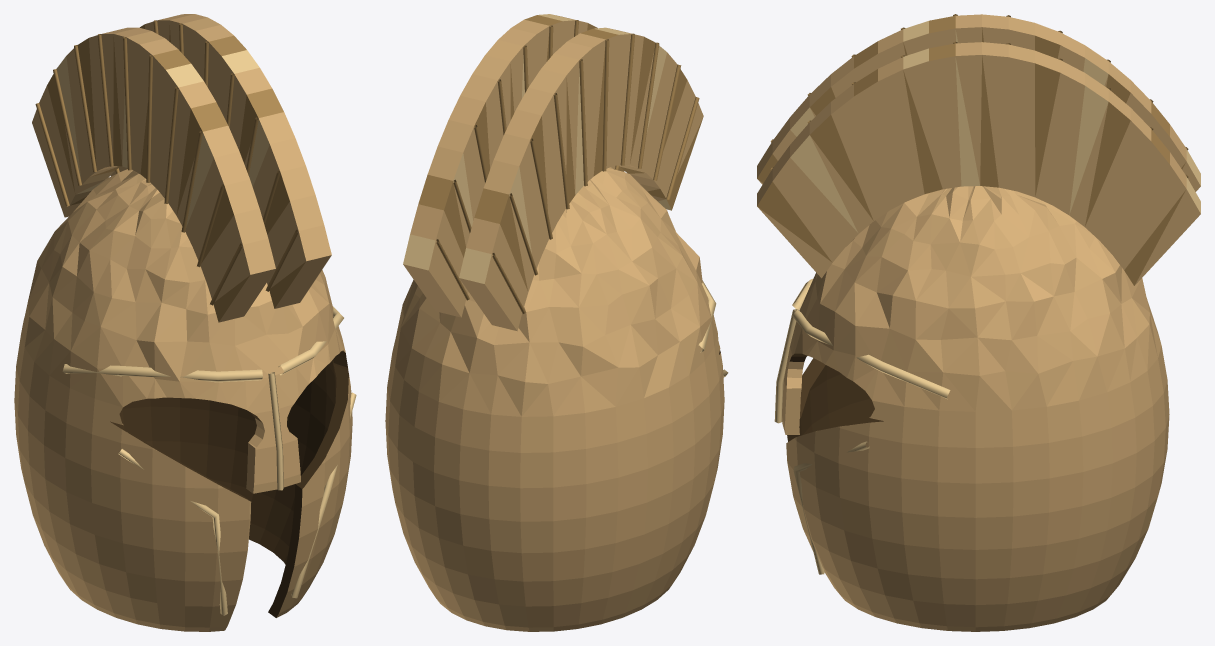
File: split.glb
3 renders of one model, left to right at view 1: azimuth 30°, elevation 25°; view 2: azimuth 150°, elevation 25°; view 3: azimuth 270°, elevation 25°, orthographic.
Visible parts, largest first — view 1: Hollow helmet shell.008, Radial fan crest.007, Radial fan crest.008, Sculpted brow.016, Nasal spine.008, Cheek ridge.016, Cheek ridge.017, Sculpted brow.017, Crest vane.075, Crest vane.076, Crest vane.077, Crest vane.074 (+3 smaller); view 2: Hollow helmet shell.008, Radial fan crest.007, Radial fan crest.008, Crest vane.073, Crest vane.074, Crest vane.072, Crest vane.075, Crest vane.071, Crest vane.076, Crest vane.070; view 3: Hollow helmet shell.008, Radial fan crest.008, Radial fan crest.007, Sculpted brow.017, Nasal spine.008.
Part boxes in pixels (<box>): Hollow helmet shell.008: <box>14,169,352,631</box>; Radial fan crest.007: <box>32,27,275,322</box>; Radial fan crest.008: <box>110,14,331,308</box>; Sculpted brow.016: <box>62,364,262,382</box>; Nasal spine.008: <box>268,372,283,490</box>; Cheek ridge.016: <box>118,449,227,615</box>; Cheek ridge.017: <box>291,392,356,598</box>; Sculpted brow.017: <box>278,306,343,375</box>; Crest vane.075: <box>123,37,131,170</box>; Crest vane.076: <box>97,34,113,166</box>; Crest vane.077: <box>74,45,96,172</box>; Crest vane.074: <box>146,55,152,182</box>; Hollow helmet shell.008: <box>385,167,724,631</box>; Radial fan crest.007: <box>459,27,703,331</box>; Radial fan crest.008: <box>403,14,624,317</box>; Crest vane.073: <box>620,33,634,165</box>; Crest vane.074: <box>602,39,609,171</box>; Crest vane.072: <box>638,42,659,168</box>; Crest vane.075: <box>579,59,587,186</box>; Crest vane.071: <box>653,64,681,180</box>; Crest vane.076: <box>553,93,569,209</box>; Crest vane.070: <box>666,97,699,199</box>; Hollow helmet shell.008: <box>782,186,1169,631</box>; Radial fan crest.008: <box>757,42,1200,285</box>; Radial fan crest.007: <box>757,14,1200,191</box>; Sculpted brow.017: <box>792,309,950,399</box>; Nasal spine.008: <box>774,309,799,423</box>.
Size of the model in its own units: 1.2 by 2.21 by 1.63.
